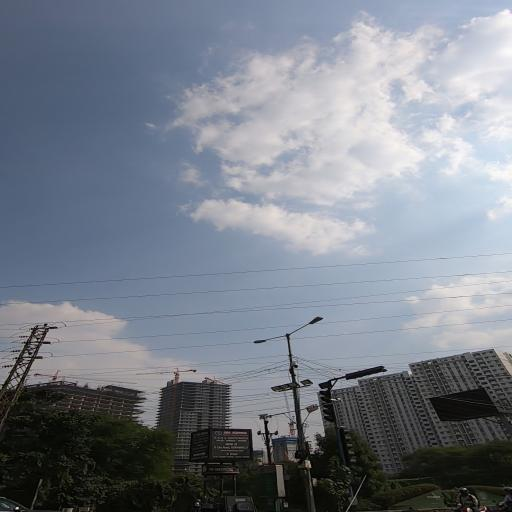Street_light: (293, 314, 328, 336), (244, 337, 292, 346)
